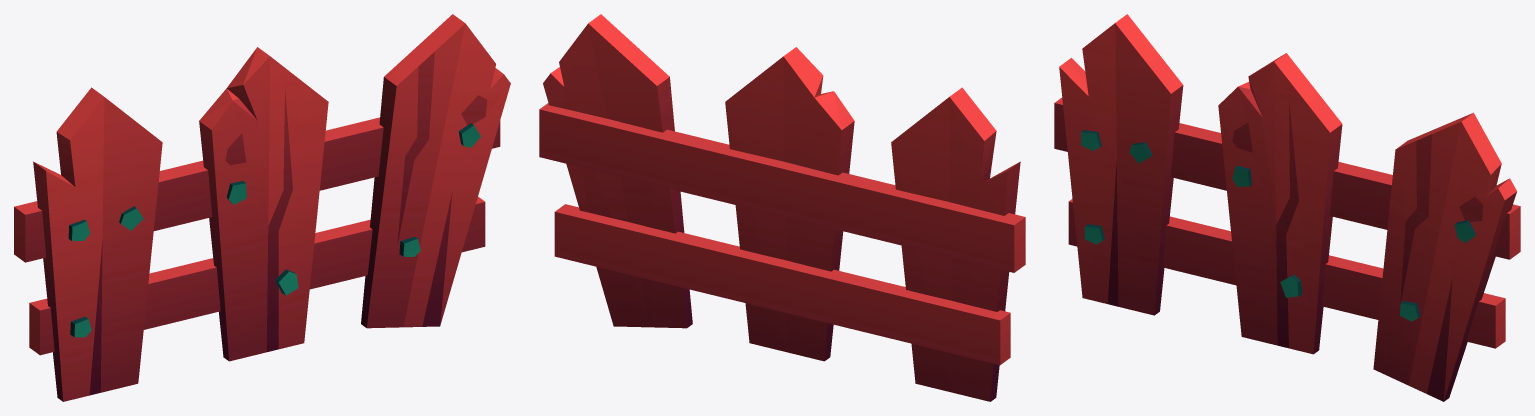
File: fence_3.glb
3 renders of one model, left to right at view 1: azimuth 30°, elevation 25°; view 2: azimuth 150°, elevation 25°; view 3: azimuth 330°, elevation 25°, orthographic. The views are drawn at different scales.
Visible parts, largest first — view 1: fence_3; view 2: fence_3; view 3: fence_3.
Part boxes in pixels (x1=…): fence_3: x1=14, y1=14, x2=510, y2=401; fence_3: x1=539, y1=14, x2=1025, y2=401; fence_3: x1=1054, y1=14, x2=1520, y2=401.
Size of the model in its own units: 1.05 by 0.6649 by 0.0799.
1 material, 1 textured.
